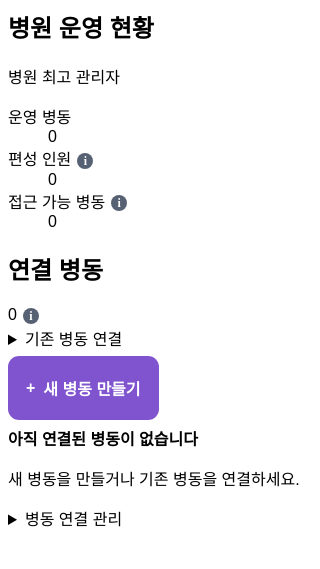
hospital owner disconnection › keeps terminal DETACHED links in history without counting them as linked wards
The width and height of the screenshot is (320, 569).
Expected: the text "아직 연결된 병동이 없습니다" is shown, [8,431,198,448]
Expected: the text with class "hospital-overview-count" reads "0", [8,306,17,323]
Click the heading "병동 연결 관리" at (74, 520), box [25,511,122,528]
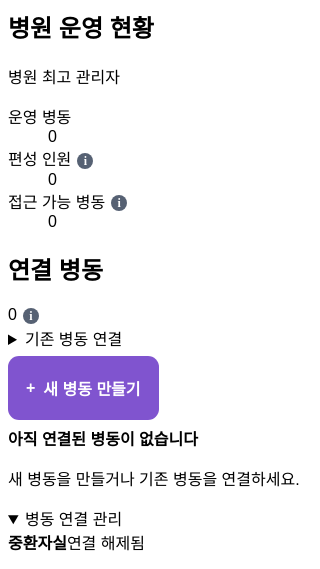
Result: the text "중환자실" is shown at [8,535,67,552]
Result: the text "연결 해제됨" is shown at [67,535,145,552]
